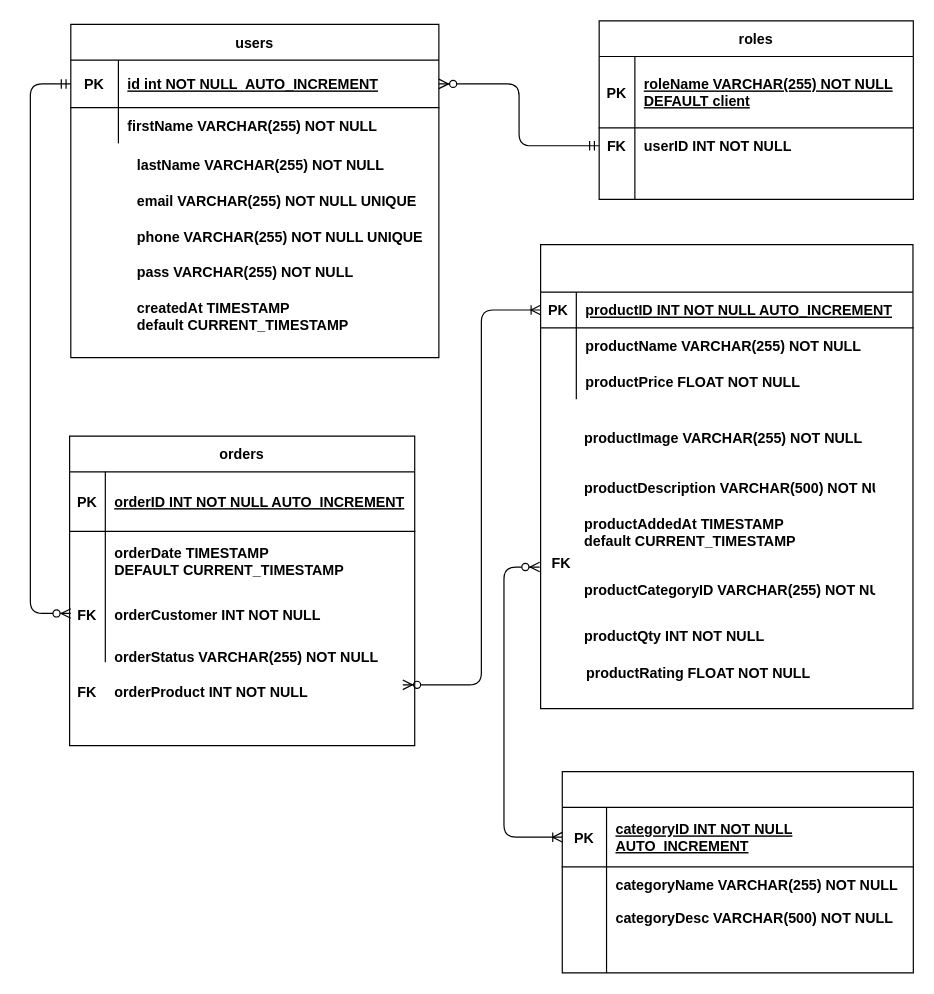
Some shapes in this 934 by 994 pixel diagram are drawn without their labels. The box of each missing label's shape, as (x1, y1, x2, y2) in pixels:
categories: (561, 771, 913, 973)
products: (539, 243, 913, 709)
